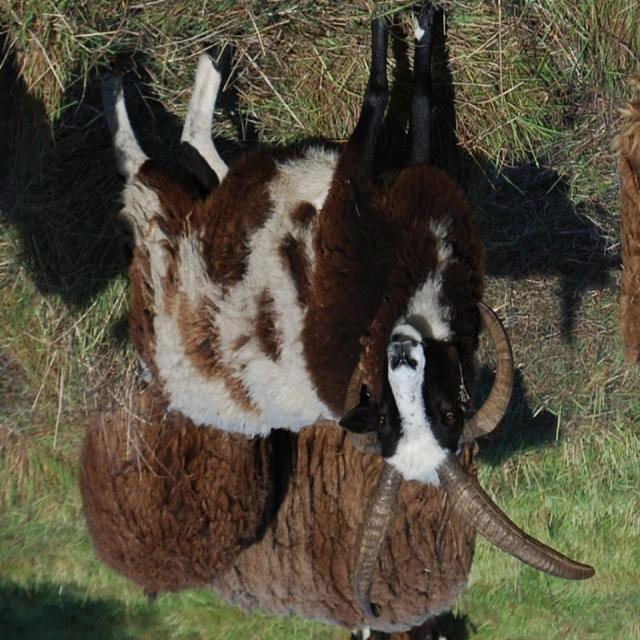Goat: (96, 2, 594, 630)
